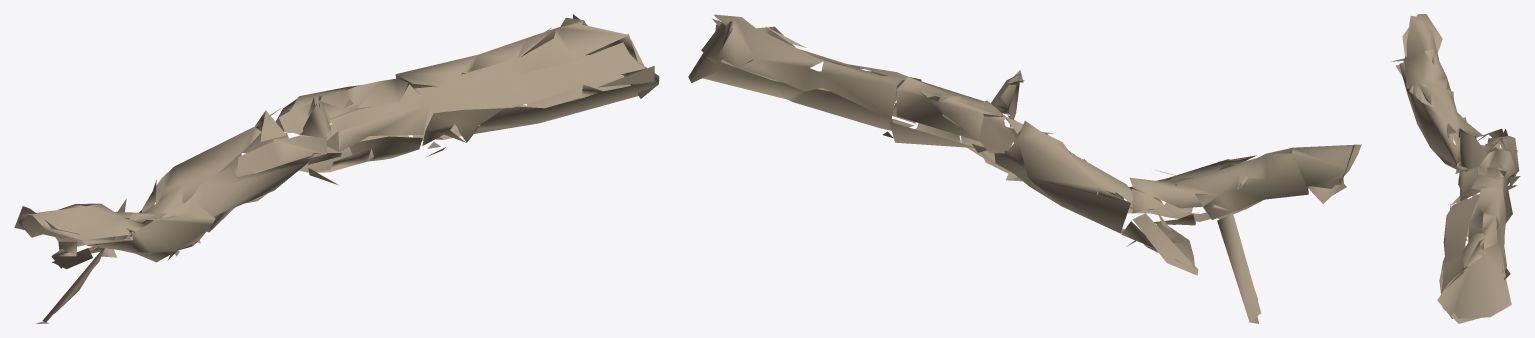
The model's file is log-fallen-lod1.glb.
3 renders of one model, left to right at view 1: azimuth 30°, elevation 25°; view 2: azimuth 150°, elevation 25°; view 3: azimuth 270°, elevation 25°, orthographic. The views are drawn at different scales.
Visible parts, largest first — view 1: log-fallen; view 2: log-fallen; view 3: log-fallen.
Part boxes in pixels (x1=…): log-fallen: x1=14, y1=14, x2=659, y2=323; log-fallen: x1=688, y1=14, x2=1361, y2=323; log-fallen: x1=1391, y1=14, x2=1520, y2=323.
Bounding box in the file's own units: 4.04 × 1.06 × 0.8417.
